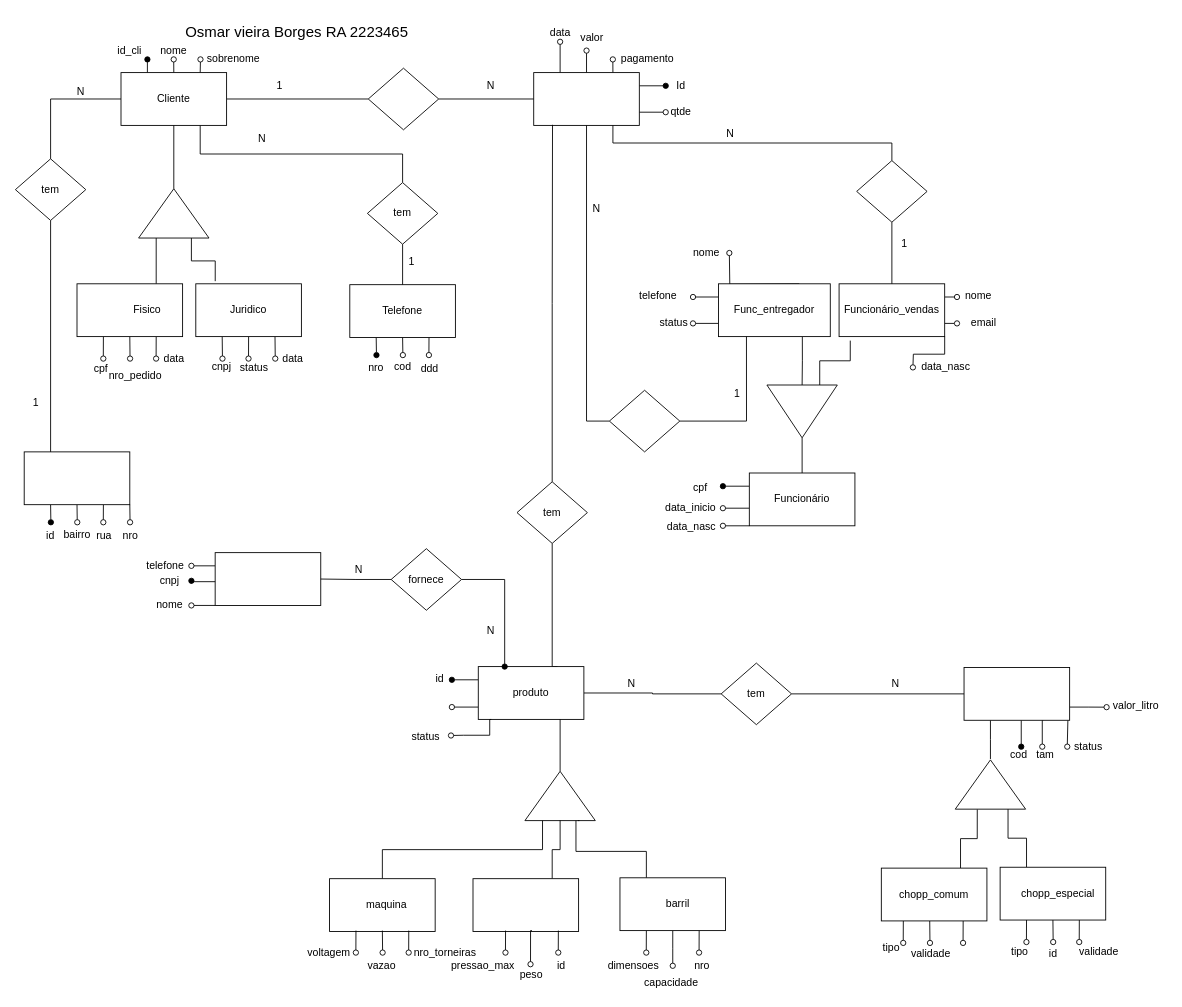
Image size: 1182x1007. Some labels were removed from this diagram. The shapes that lost their labels are listed below. From the top down, each one's centre as x and y in pixels, then its label:
At point (403, 98): "faz".
At point (586, 98): "Pedido".
At point (891, 191): "atende".
At point (644, 420): "entrega".
At point (76, 478): "Endereço".
At point (267, 578): "Fornecedor".
At point (1016, 693): "categoria".
At point (525, 904): "cilindro".
